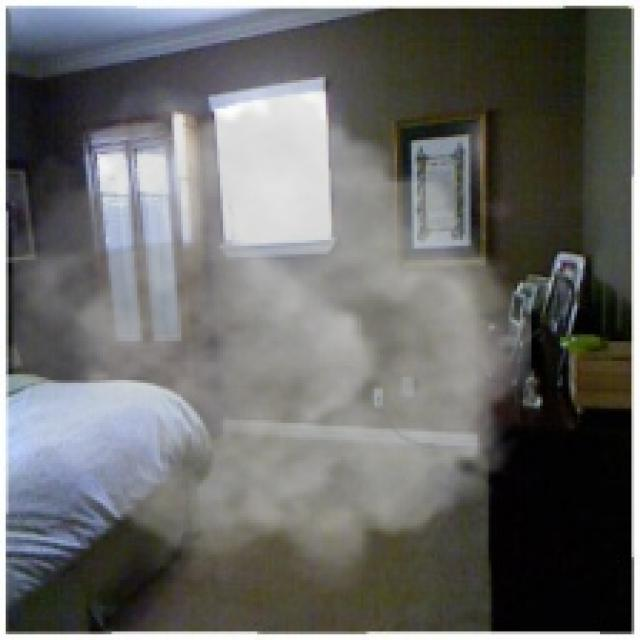smoke: (11, 69, 532, 594)
